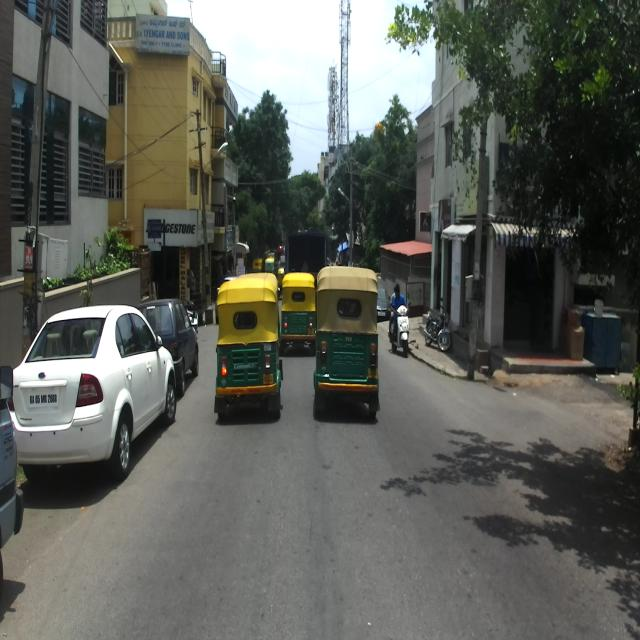auto ahead at: (318, 261, 378, 435), (215, 273, 281, 414)
car ahead at: (23, 301, 178, 479)
motorcycle ahead at: (387, 283, 411, 363)
